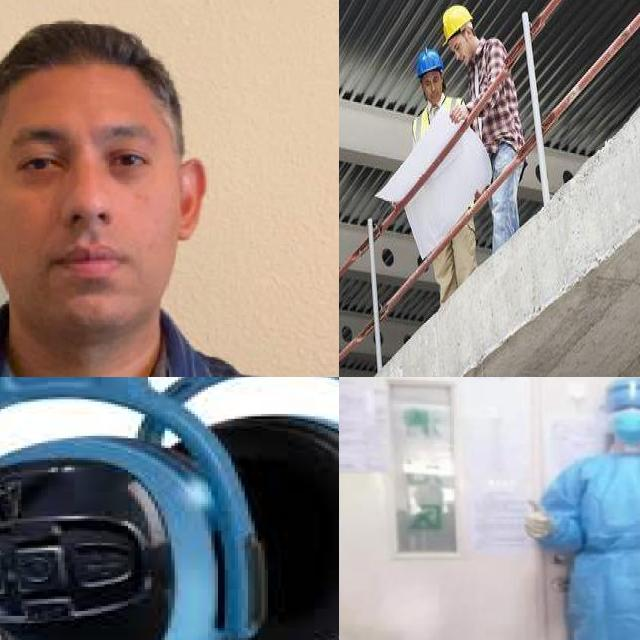Ear-protection: (0, 431, 221, 640), (224, 406, 339, 640)
No_Ear-Protection: (176, 155, 208, 243)
No_Glasses: (5, 119, 165, 185)
face_mask: (608, 399, 640, 452)
face_nomask: (446, 36, 469, 62), (423, 73, 443, 102)
hand_glove: (524, 498, 553, 543)
hand_noglove: (446, 101, 471, 125)
head_helmet: (438, 4, 474, 45), (414, 46, 441, 81)
person: (520, 377, 640, 640), (437, 4, 533, 258), (405, 44, 481, 303)
